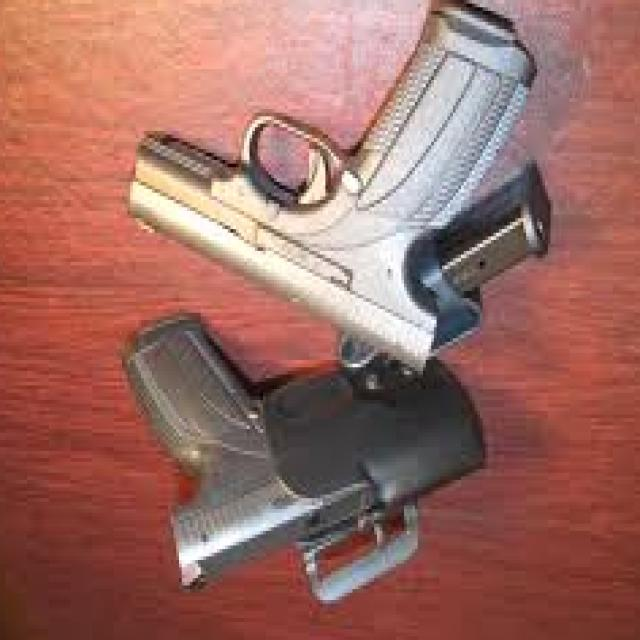Gun: (90, 0, 586, 364), (122, 313, 500, 613)
